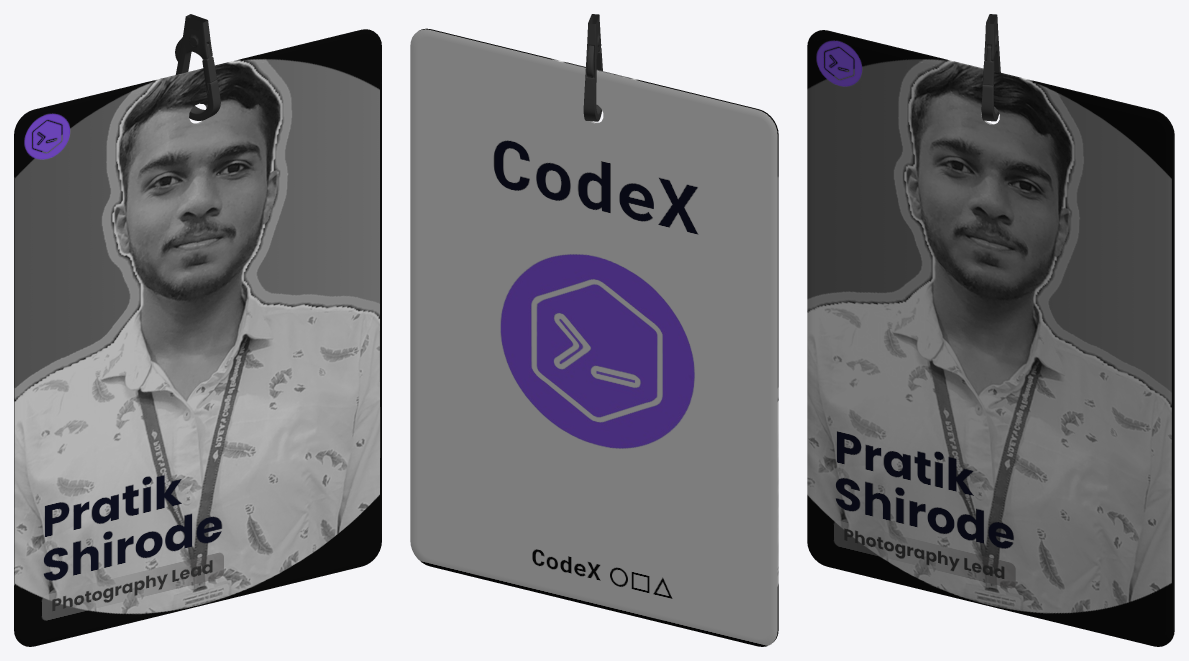
Rendered from pratikS.glb.
3 views of the same model, side by side, from view 1: azimuth 30°, elevation 25°; view 2: azimuth 150°, elevation 25°; view 3: azimuth 330°, elevation 25° (orthographic).
Parts seen in each view (by area): view 1: card, clamp; view 2: card, clamp; view 3: card, clamp.
Part boxes in pixels (box(x1,y1,x2,y2)): card: box(14, 29, 381, 646); clamp: box(175, 14, 220, 120); card: box(410, 28, 778, 646); clamp: box(583, 14, 602, 121); card: box(807, 30, 1174, 646); clamp: box(981, 14, 1000, 121).
Bounding box in the file's own units: 0.7164 × 1.1 × 0.0903.
2 materials, 1 textured.
